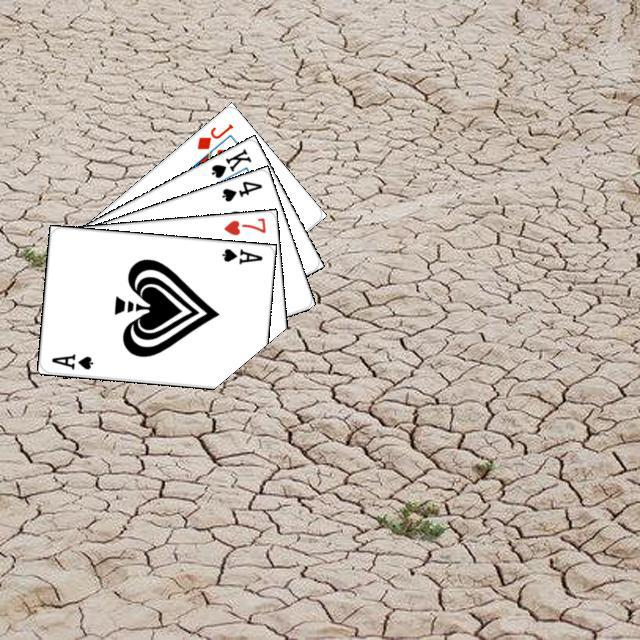4s: (217, 176, 264, 203)
7h: (219, 213, 267, 237)
As: (47, 349, 95, 371), (217, 244, 264, 266)
Jd: (192, 119, 235, 151)
Ks: (206, 144, 253, 180)
